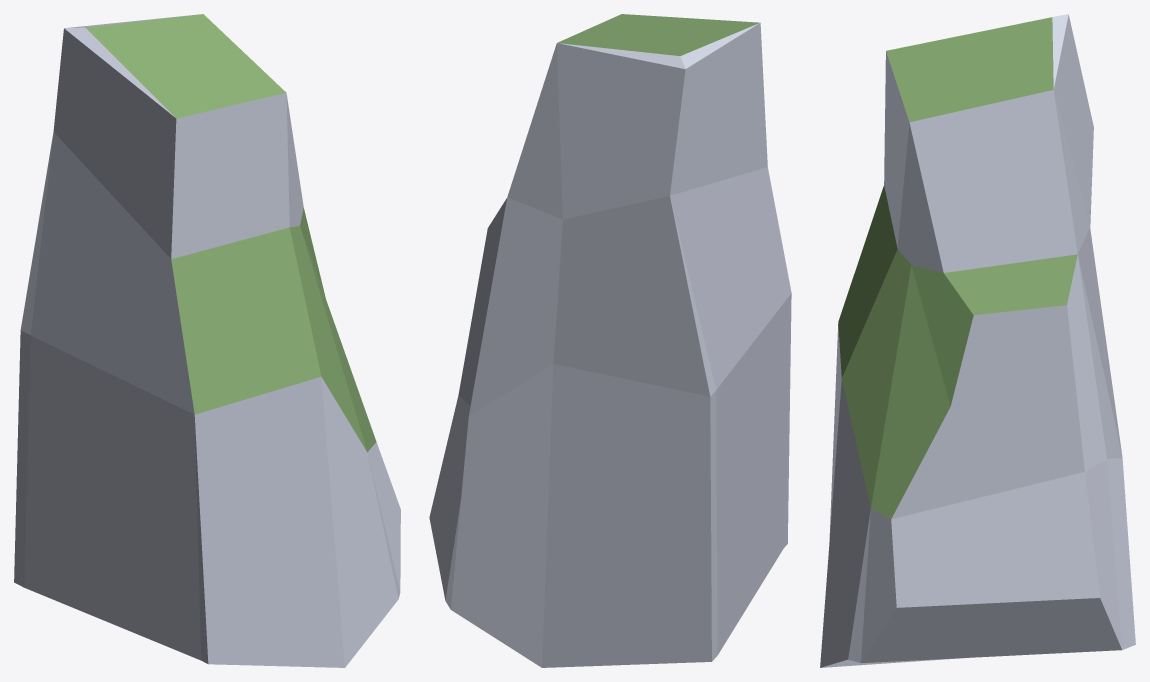
The model's file is rock_moss_1.glb.
The picture shows the model from 3 angles, left to right: view 1: azimuth 30°, elevation 25°; view 2: azimuth 150°, elevation 25°; view 3: azimuth 270°, elevation 25°; orthographic projection. The views are drawn at different scales.
Parts seen in each view (by area): view 1: Rock_Moss_1; view 2: Rock_Moss_1; view 3: Rock_Moss_1.
Boxes of the visible parts, left/top/right/bottom form: Rock_Moss_1: left=14, top=14, right=400, bottom=667; Rock_Moss_1: left=429, top=14, right=791, bottom=667; Rock_Moss_1: left=820, top=14, right=1135, bottom=667.
Size of the model in its own units: 0.4853 by 0.95 by 0.4667.
